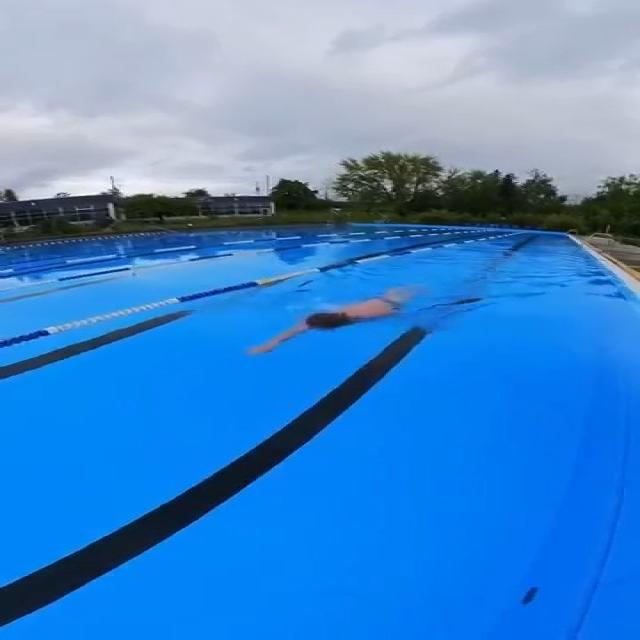Swimming: (220, 282, 440, 368)
